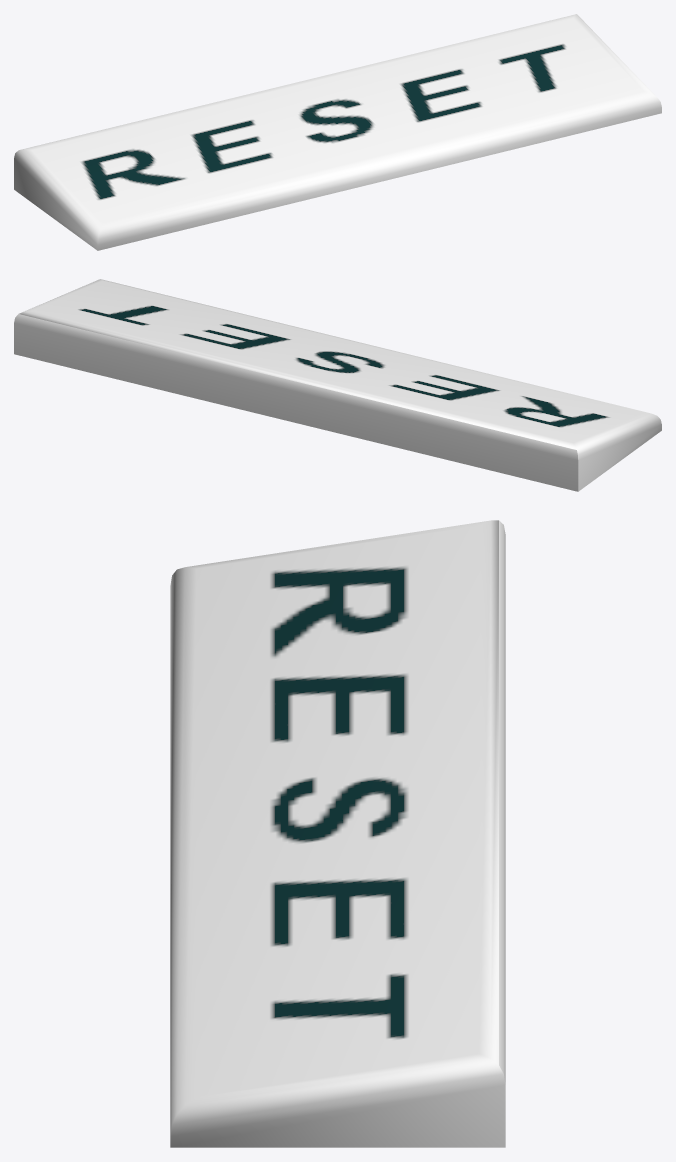
File: reset.FBX
3 renders of one model, top to bottom at view 1: azimuth 30°, elevation 25°; view 2: azimuth 150°, elevation 25°; view 3: azimuth 270°, elevation 25°, orthographic. The views are drawn at different scales.
Visible parts, largest first — view 1: reset; view 2: reset; view 3: reset.
Part boxes in pixels (x1=…): reset: x1=14, y1=14, x2=661, y2=250; reset: x1=14, y1=279, x2=661, y2=491; reset: x1=170, y1=520, x2=505, y2=1147.
Bounding box in the file's own units: 7.23 × 0.5076 × 1.86.
Materials: 1 (1 with a texture image).
